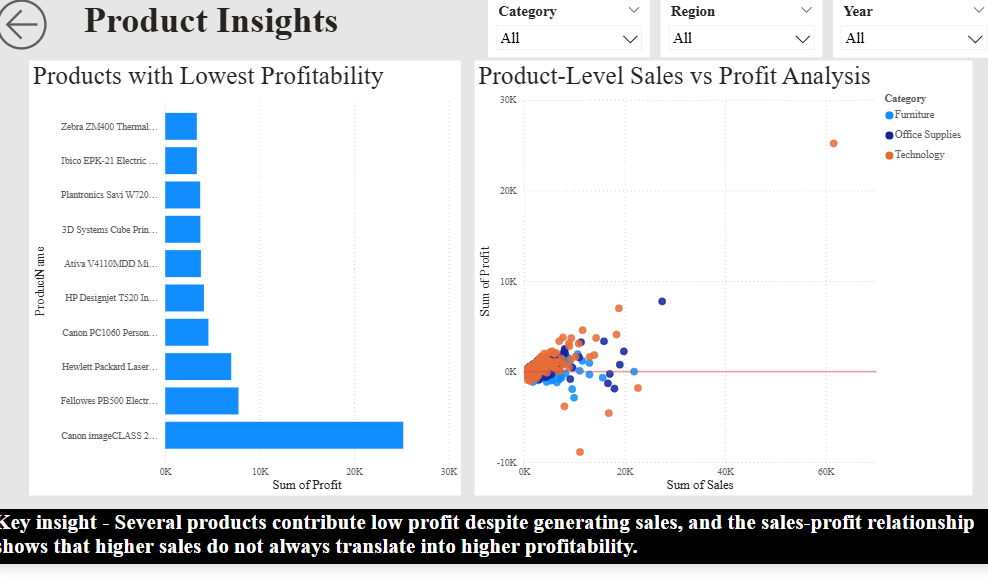

The dashboard page shown, as its layout file describes it:
{"tool":"powerbi","page":{"name":"Product Insights","canvas":[1280,720],"ordinal":4},"visuals":[{"type":"actionButton","box":[0,0,100.2,79.4],"z":0},{"type":"slicer","fields":{"Values":["cleaned_sales_data xls.Category"]},"box":[628,7.6,204.1,73],"z":1000},{"type":"slicer","fields":{"Values":["cleaned_sales_data xls.Region"]},"box":[845,7.6,204.1,73],"z":2000},{"type":"slicer","fields":{"Values":["cleaned_sales_data xls.OrderDate.Variation.Date Hierarchy.Year"]},"box":[1062.1,7,204.1,73.7],"z":3000},{"type":"textbox","title":"Product Insights","box":[113.4,7.6,412,94.5],"z":4000},{"type":"barChart","title":"Products with Lowest Profitability","fields":{"Category":["cleaned_sales_data xls.ProductName"],"Y":["Sum(cleaned_sales_data xls.Profit)"]},"box":[49.1,85,544.3,548],"z":5000},{"type":"scatterChart","title":"Product-Level Sales vs Profit Analysis","fields":{"X":["Sum(cleaned_sales_data xls.Sales)"],"Y":["Sum(cleaned_sales_data xls.Profit)"],"Category":["cleaned_sales_data xls.ProductName"],"Series":["cleaned_sales_data xls.Category"]},"box":[610.4,85,627.4,548],"z":6000},{"type":"textbox","title":"Key insight - Several products contribute low profit despite generating sales, and the sales-profit relationship shows that higher sales do not always translate into higher profitability.","box":[0,650.1,1279.4,69.9],"z":7000}]}

Visuals, with their boxes on the page's 1280x720 design canvas (x1, y1, x2, y2). These are canvas units, not pixel positions in the 988x581 screenshot, which may show the page scaled, cropped or inside an application window:
actionButton: <box>0,0,100,79</box>
slicer - cleaned_sales_data xls.Category: <box>628,8,832,81</box>
slicer - cleaned_sales_data xls.Region: <box>845,8,1049,81</box>
slicer - cleaned_sales_data xls.OrderDate.Variation.Date Hierarchy.Year: <box>1062,7,1266,81</box>
"Product Insights" textbox: <box>113,8,525,102</box>
"Products with Lowest Profitability" barChart: <box>49,85,593,633</box>
"Product-Level Sales vs Profit Analysis" scatterChart: <box>610,85,1238,633</box>
"Key insight - Several products contribute low profit despite generating sales, and the sales-profit relationship shows that higher sales do not always translate into higher profitability." textbox: <box>0,650,1279,720</box>
